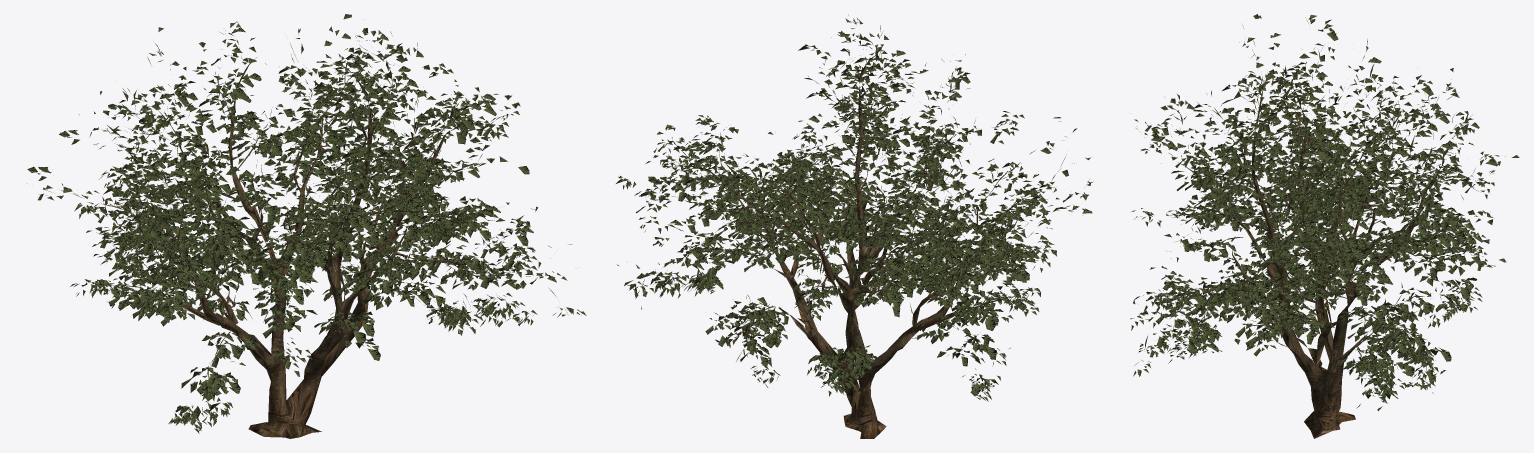
File: jacaranda_tree.glb
3 renders of one model, left to right at view 1: azimuth 30°, elevation 25°; view 2: azimuth 150°, elevation 25°; view 3: azimuth 270°, elevation 25°, orthographic. The views are drawn at different scales.
Parts seen in each view (by area): view 1: jacaranda_tree_LOD0; view 2: jacaranda_tree_LOD0; view 3: jacaranda_tree_LOD0.
Part boxes in pixels (x1=…): jacaranda_tree_LOD0: x1=27, y1=14, x2=586, y2=438; jacaranda_tree_LOD0: x1=616, y1=14, x2=1093, y2=438; jacaranda_tree_LOD0: x1=1130, y1=14, x2=1519, y2=438.
Bounding box in the file's own units: 23.54 × 19.22 × 18.15.
Materials: 3 (3 with a texture image).
